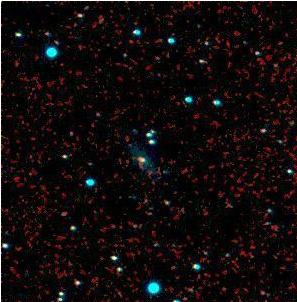star: (240, 114, 270, 144)
